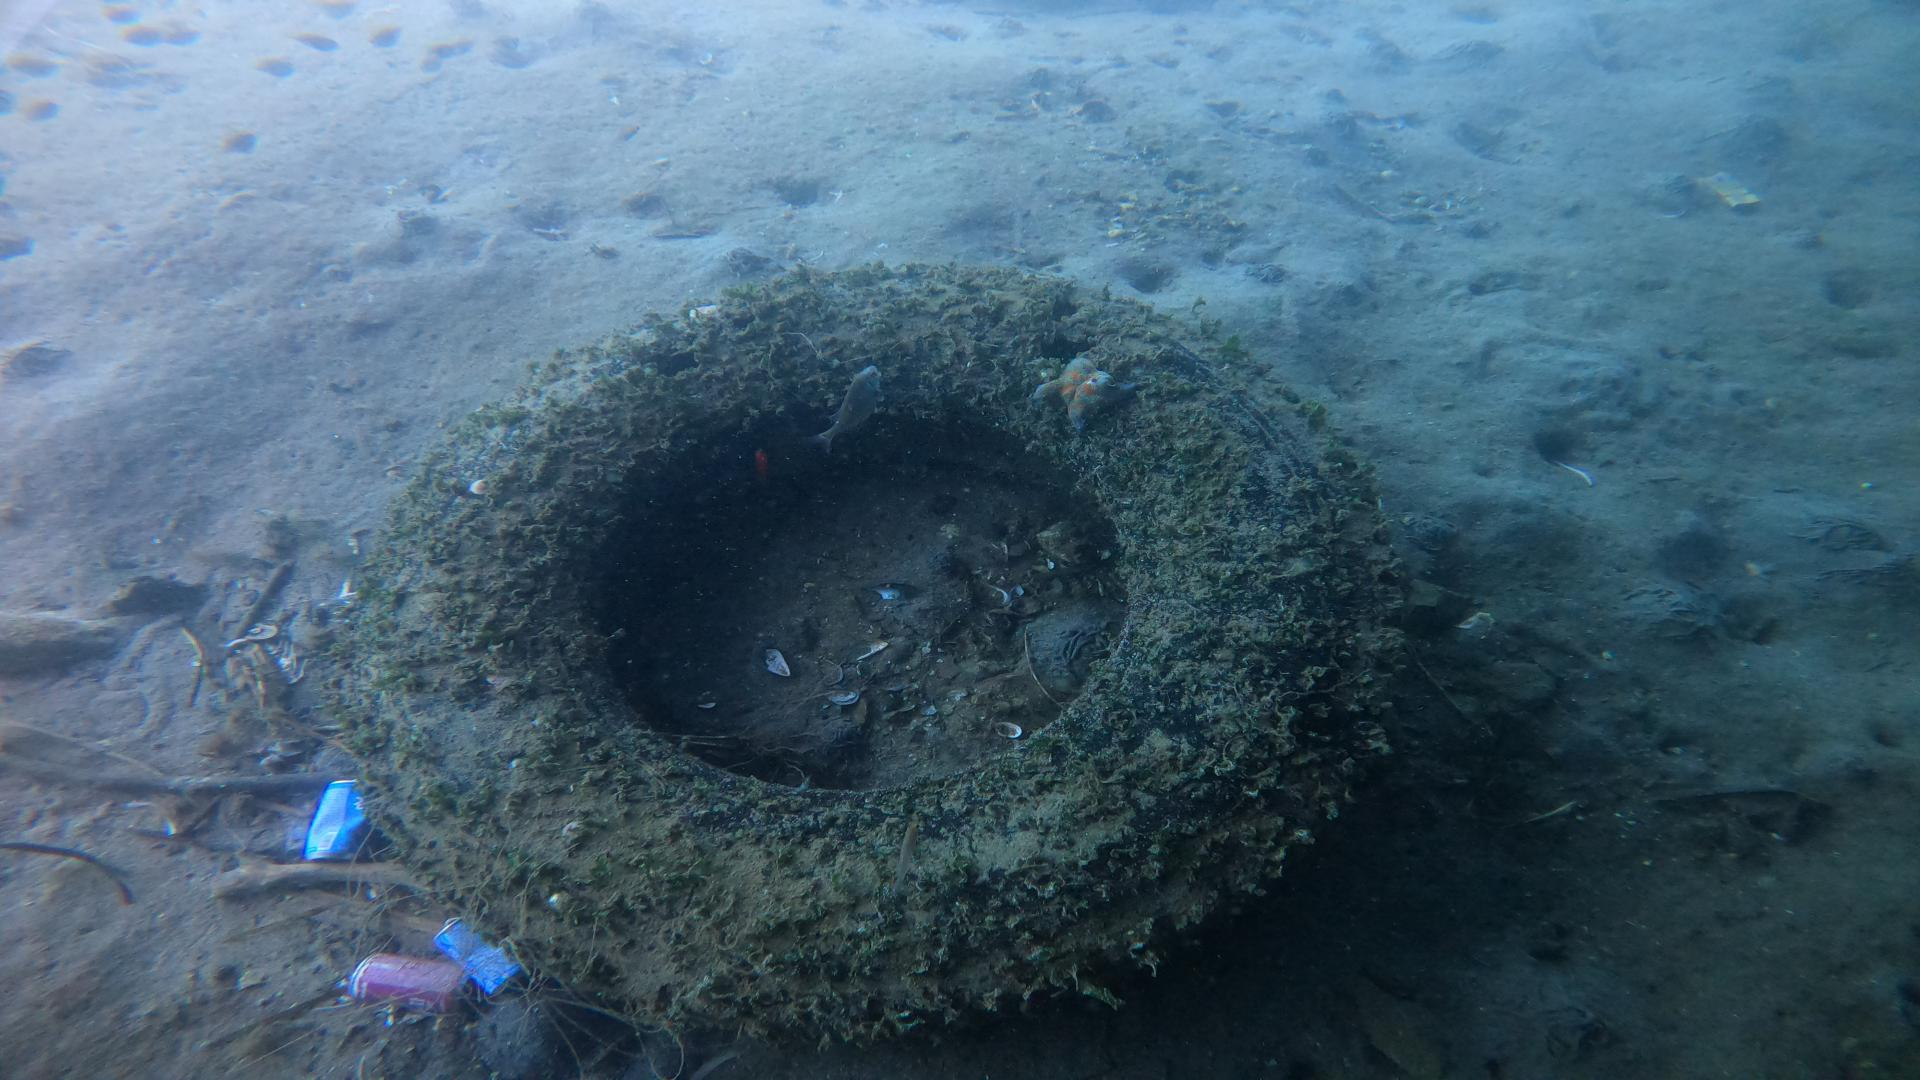tire: (338, 261, 1408, 1051)
